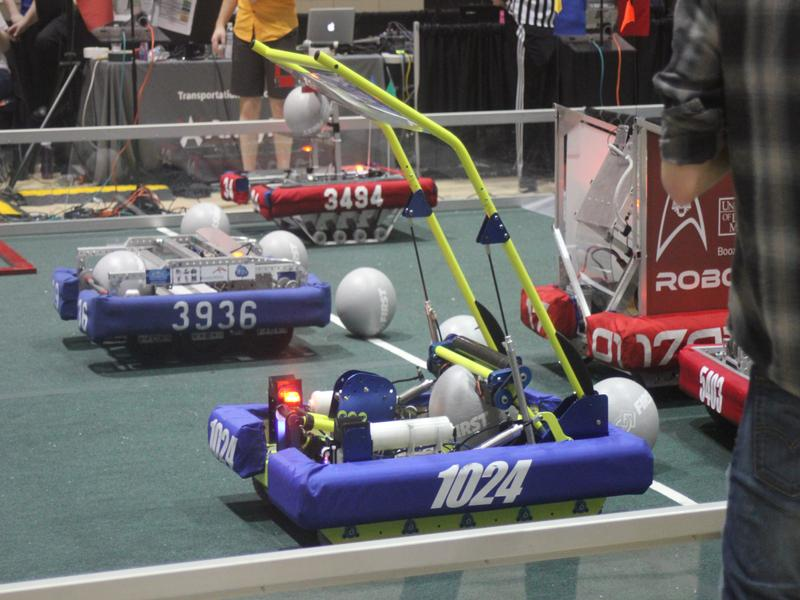robot: (208, 359, 646, 544), (528, 88, 745, 379), (57, 227, 327, 368), (218, 102, 435, 244)
